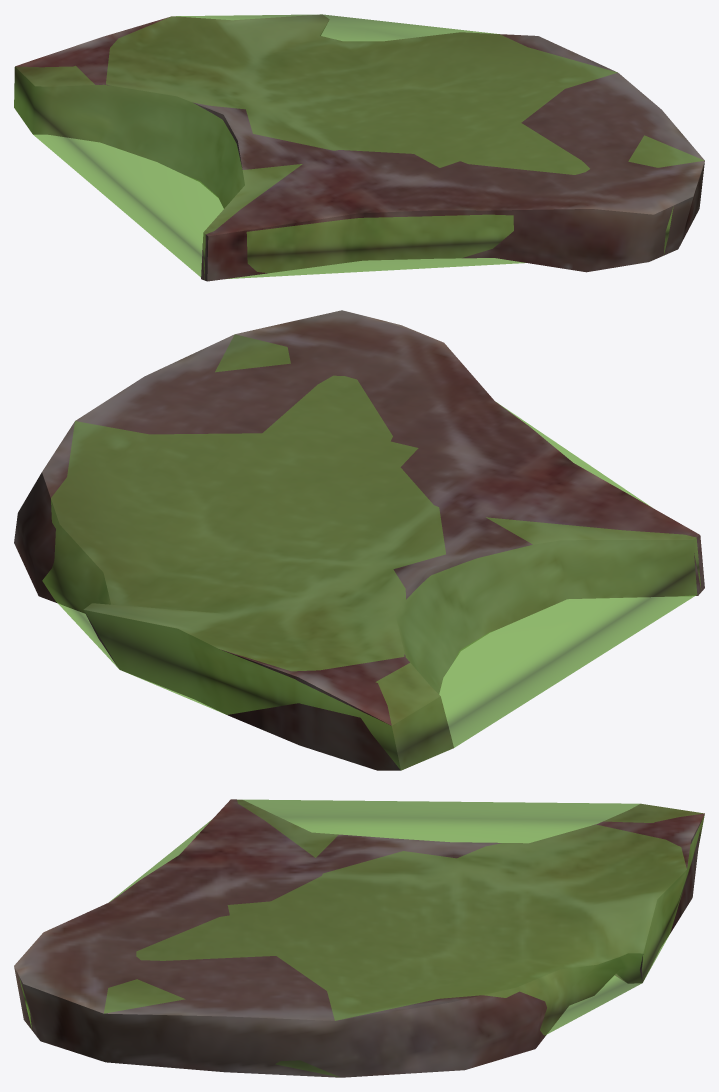
File: pg_Pork_03.fbx
3 renders of one model, top to bottom at view 1: azimuth 30°, elevation 25°; view 2: azimuth 150°, elevation 25°; view 3: azimuth 270°, elevation 25°, orthographic. The views are drawn at different scales.
Parts seen in each view (by area): view 1: pg_Pork_03_a_LOD0, pg_Pork_03_a_col; view 2: pg_Pork_03_a_LOD0, pg_Pork_03_a_col; view 3: pg_Pork_03_a_LOD0, pg_Pork_03_a_col.
Boxes of the visible parts, left/top/right/bottom form: pg_Pork_03_a_LOD0: left=14, top=14, right=704, bottom=281; pg_Pork_03_a_col: left=14, top=14, right=703, bottom=279; pg_Pork_03_a_LOD0: left=14, top=310, right=704, bottom=770; pg_Pork_03_a_col: left=42, top=334, right=701, bottom=770; pg_Pork_03_a_LOD0: left=14, top=799, right=704, bottom=1077; pg_Pork_03_a_col: left=19, top=799, right=704, bottom=1076.
Size of what is drawn, in the model's own units: 9.55 by 1.29 by 11.4.
